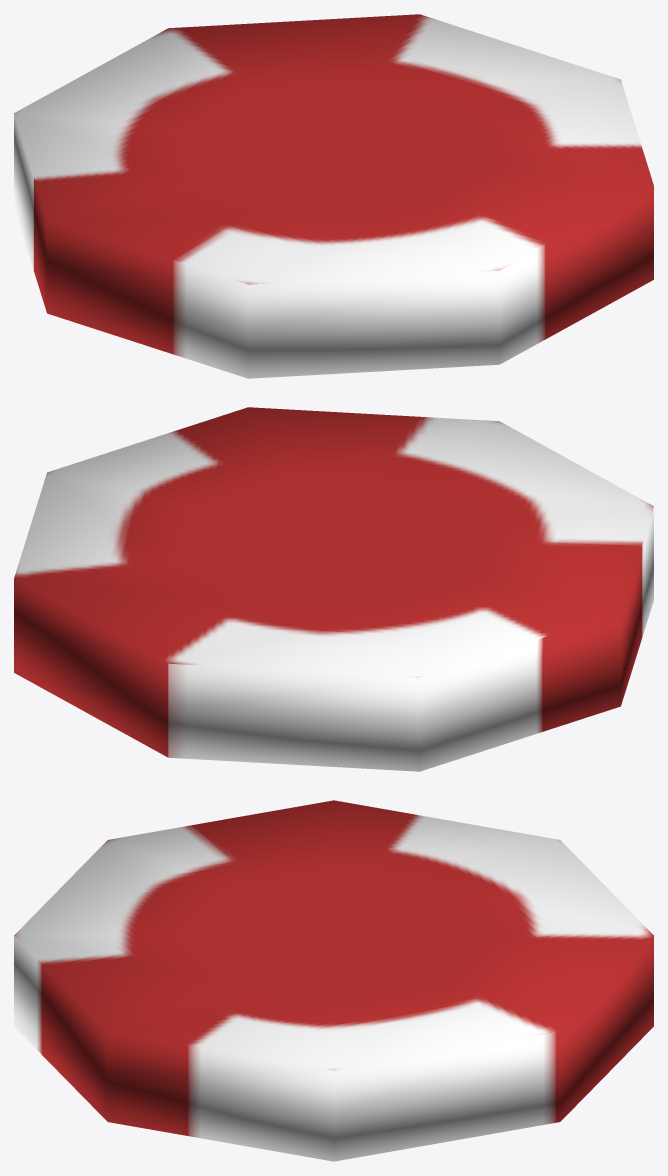
The model's file is poker_chip.fbx.
3 views of the same model, one above another, from view 1: azimuth 30°, elevation 25°; view 2: azimuth 150°, elevation 25°; view 3: azimuth 270°, elevation 25° (orthographic). The views are drawn at different scales.
Parts seen in each view (by area): view 1: Poker_chip:Poker_chip; view 2: Poker_chip:Poker_chip; view 3: Poker_chip:Poker_chip.
Part boxes in pixels (x1,y1,x2,y2): Poker_chip:Poker_chip: (14, 14, 653, 378); Poker_chip:Poker_chip: (14, 407, 653, 771); Poker_chip:Poker_chip: (14, 800, 653, 1161).
Size of the model in its own units: 0.3558 by 0.0557 by 0.3558.
